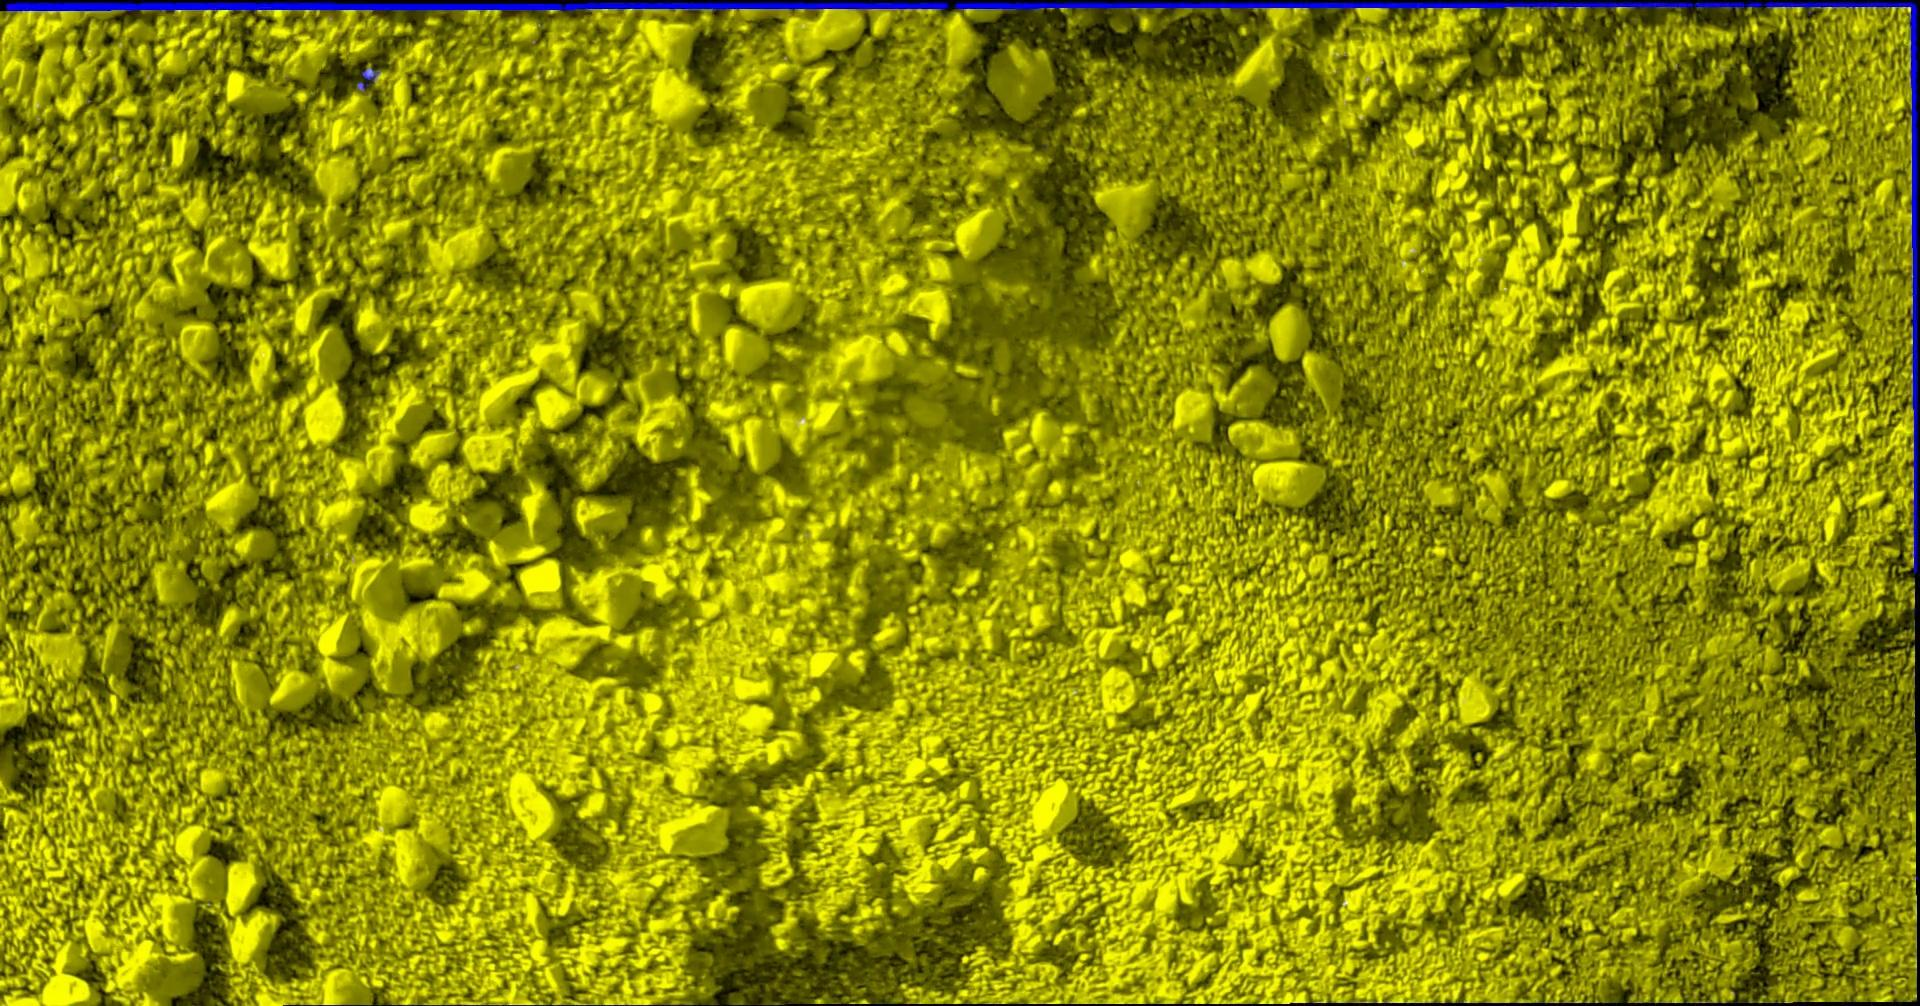ant: (356, 67, 378, 91)
